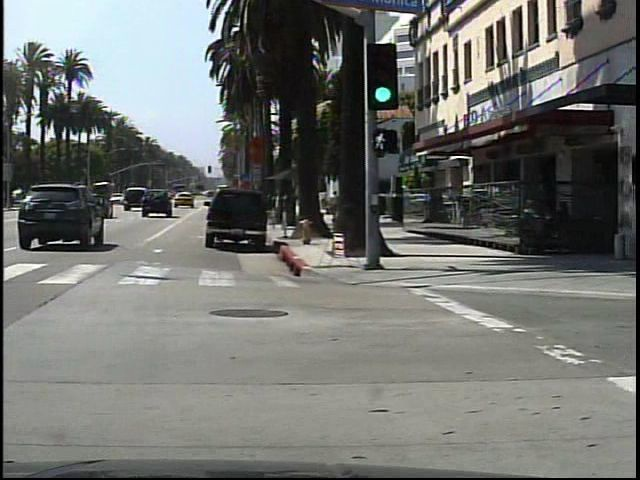person: (330, 184, 342, 226)
